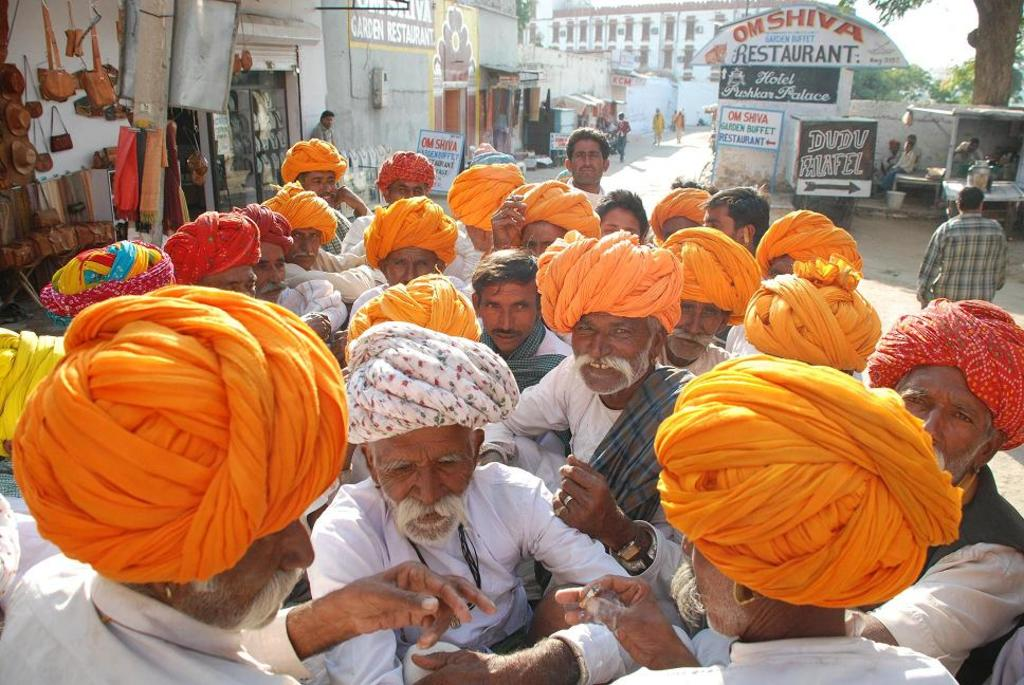Person: (0, 107, 1024, 684), (874, 140, 916, 192), (955, 140, 984, 176), (879, 140, 903, 177), (614, 114, 631, 162), (655, 109, 665, 145), (676, 107, 686, 142)
